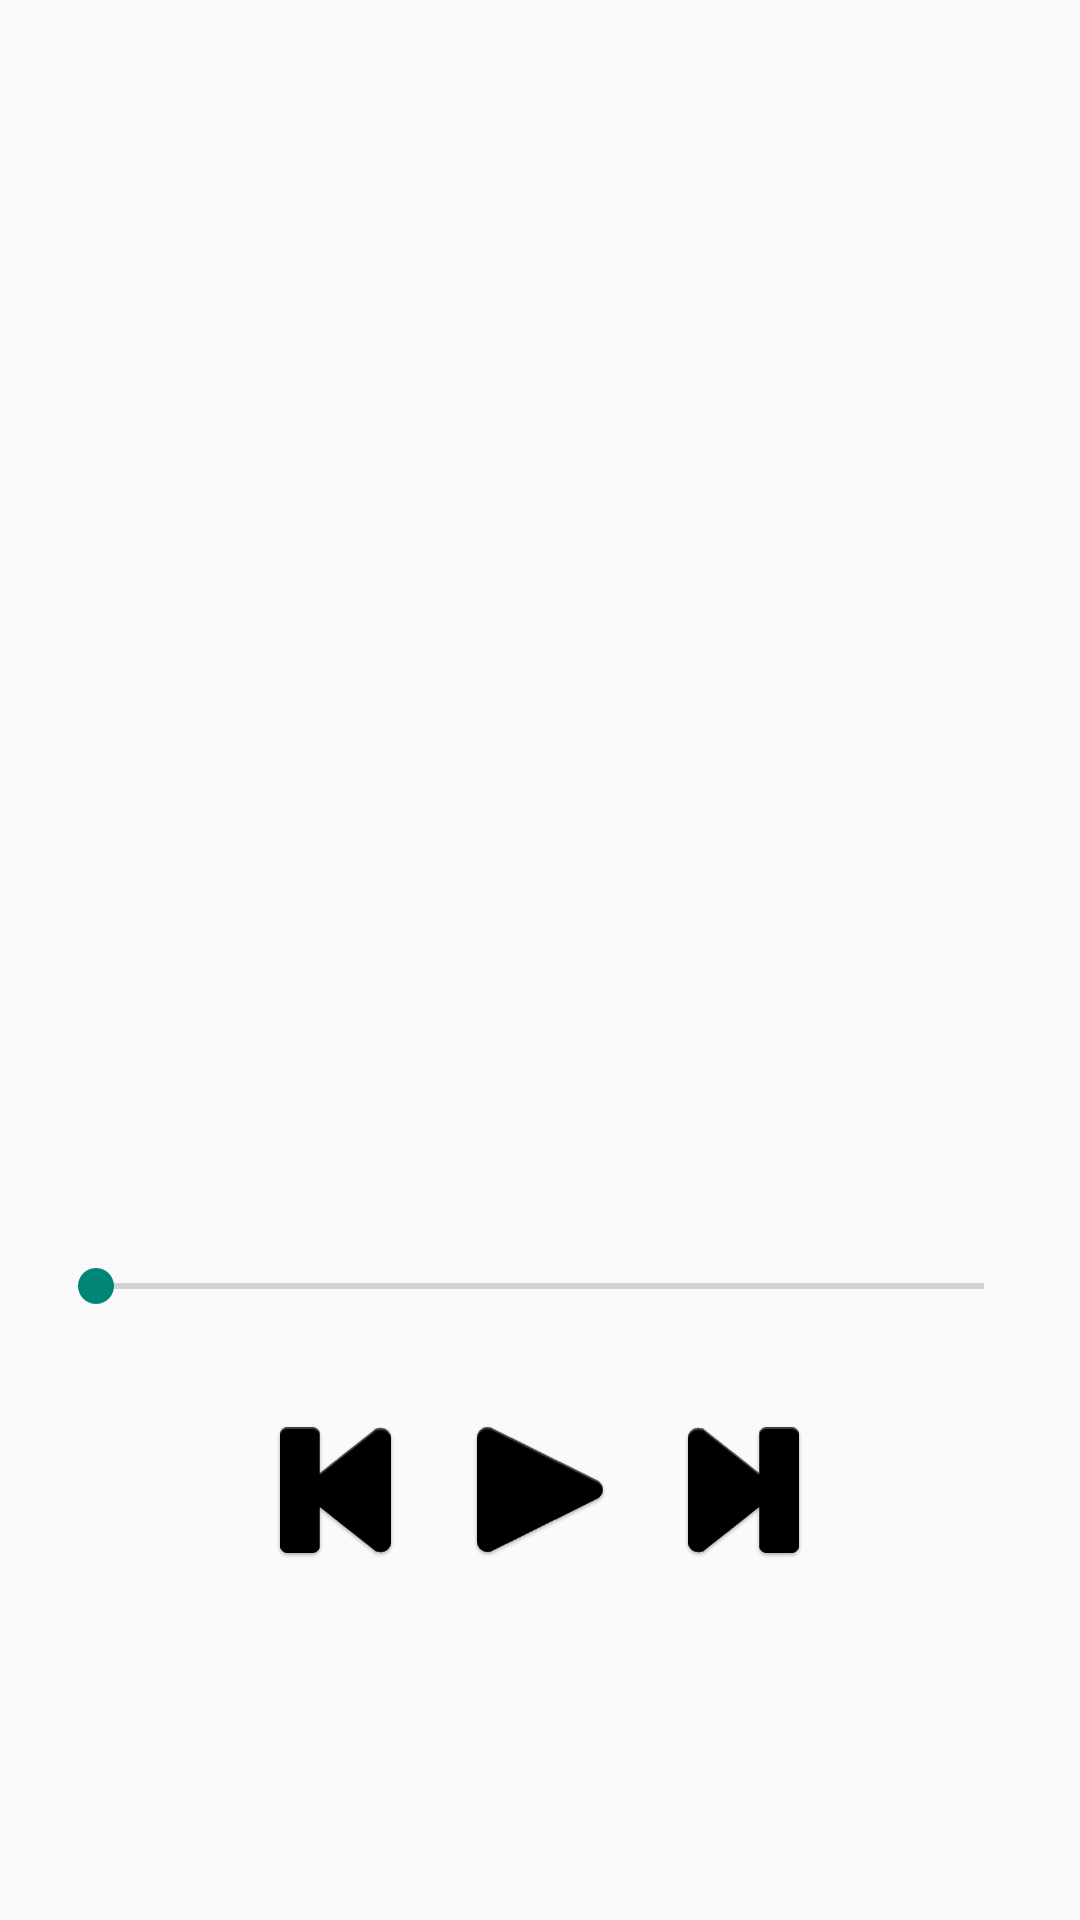

Icons on this 1080px x 1920px Android screen, each with its box as (x1, y1, x2, y2):
next: (687, 1427, 800, 1556)
play: (476, 1427, 604, 1555)
previous: (279, 1427, 392, 1556)
